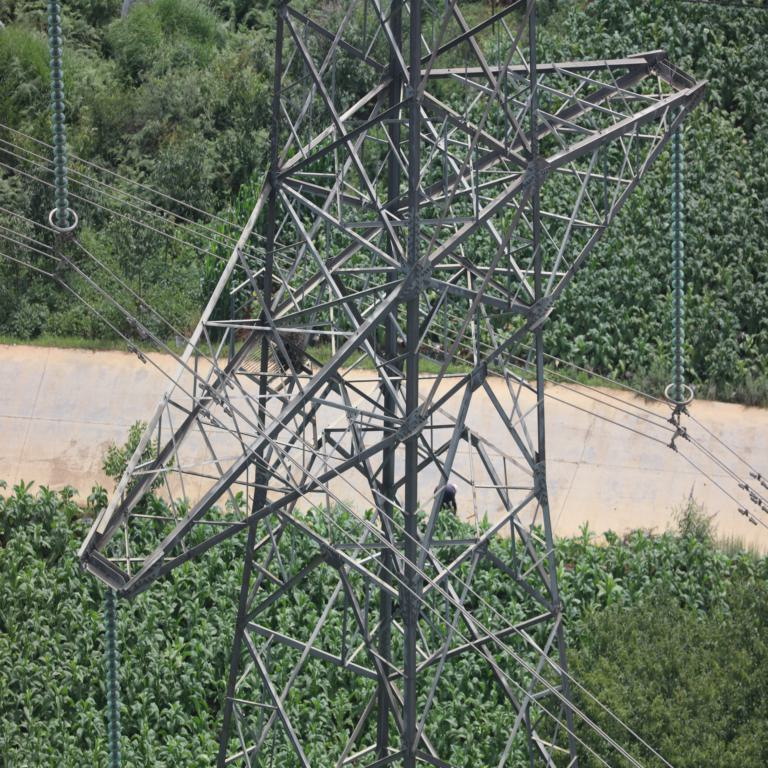nest: (277, 326, 307, 371)
